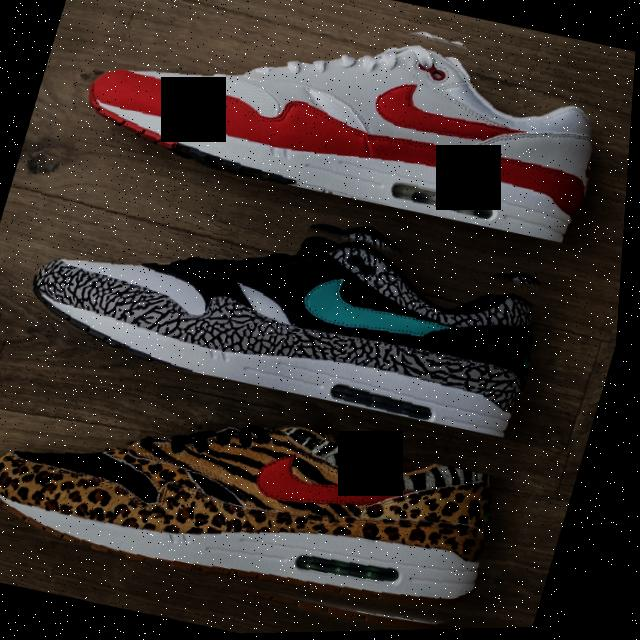shoe: (0, 146, 632, 466), (0, 356, 586, 640), (56, 0, 640, 273)
